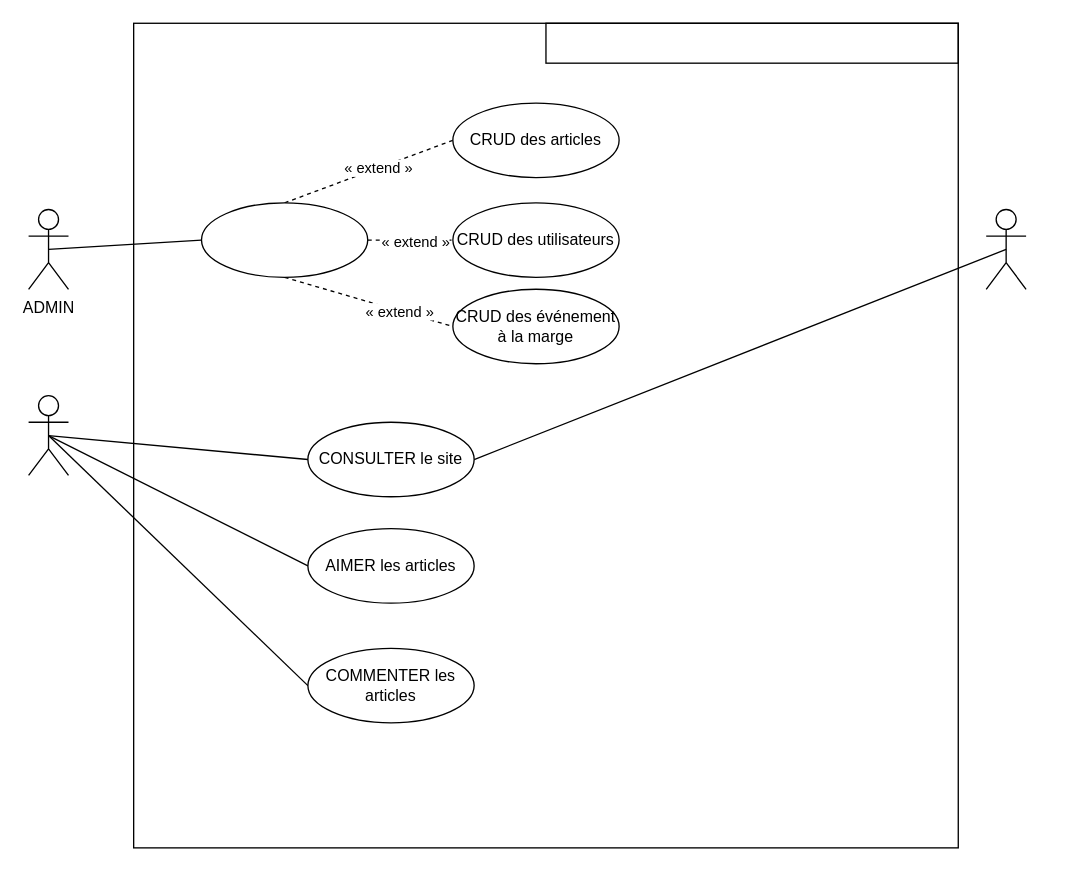
This 1065x871 diagram has some shape labels left out. Here are the shapes that lost their labels. From the top down, the centre of each, then its label:
At point 751,42: "Diagramme de cas d’utilisation – Site WEB PHP / BDD".
At point 284,239: "SE CONNECTER au dashboard".
At point 1005,248: "VISITEUR".
At point 47,434: "USER".
